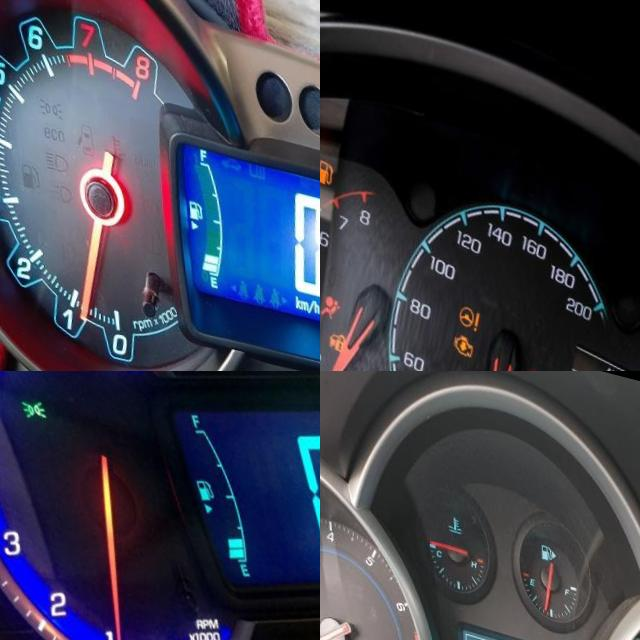Low fuel level: (320, 146, 332, 180)
SideLamp: (15, 389, 42, 417)
